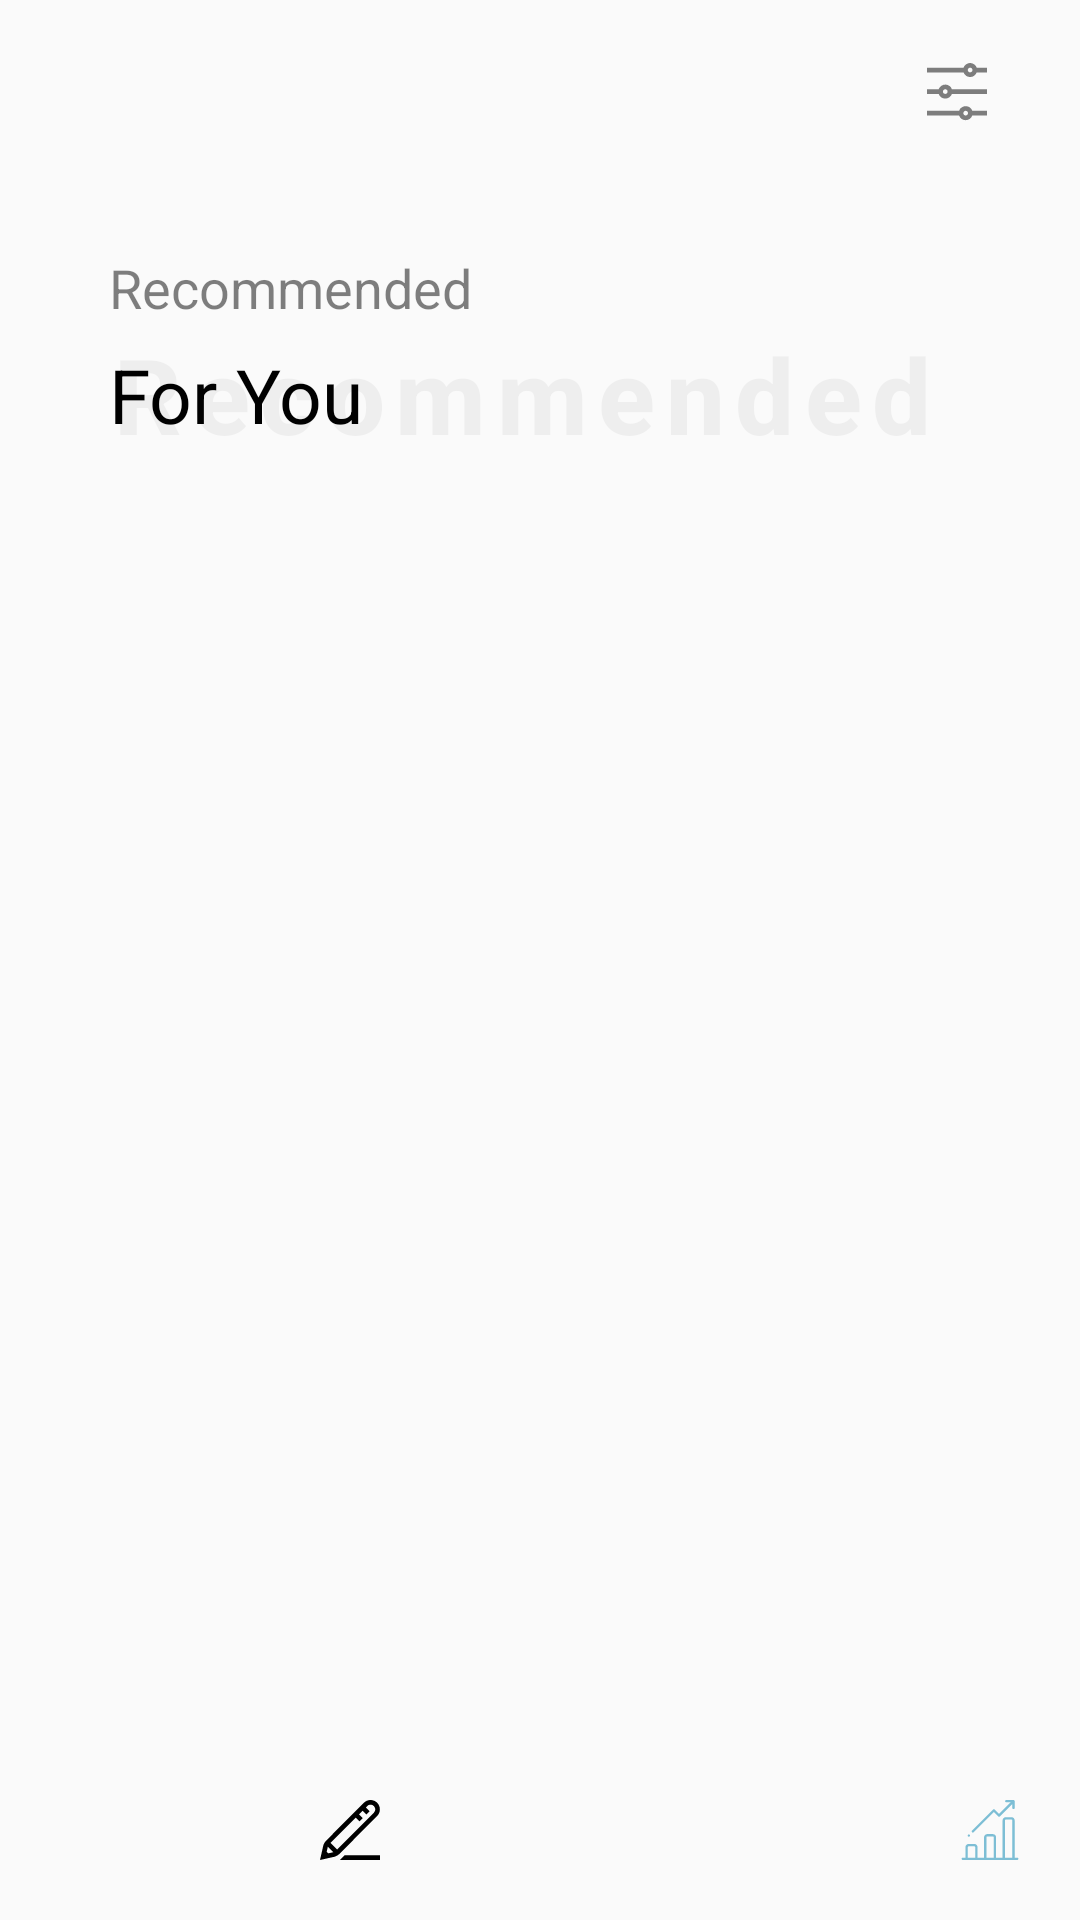

Where to tap for icons on this 1080 × 1920 app screen, as (x,y):
pen: (350,1830)
setting: (957,91)
